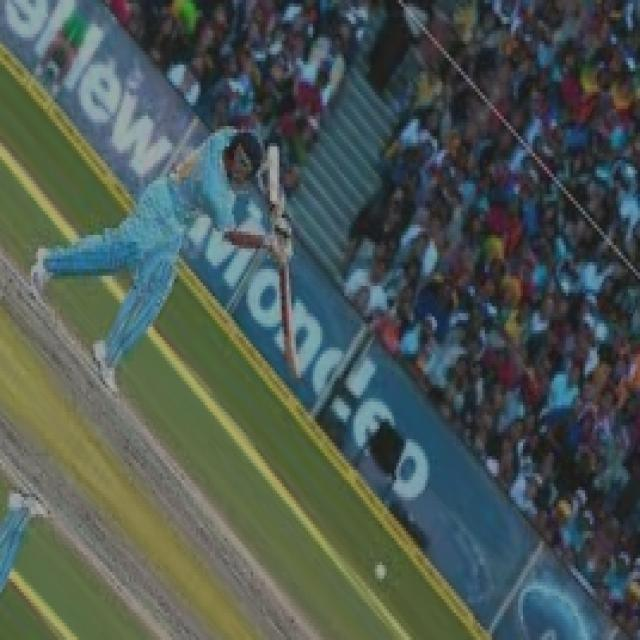bat: (269, 238, 308, 386)
